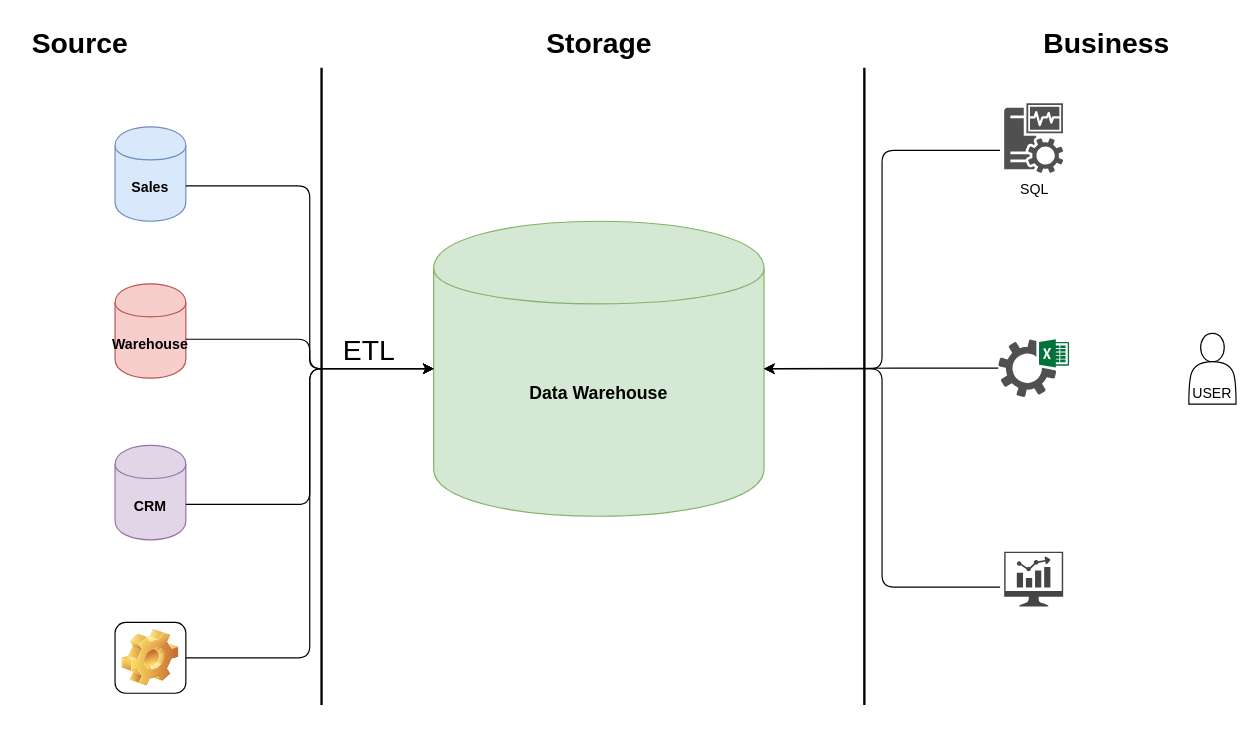
Some shapes in this 1257 by 742 pixel diagram are drawn without their labels. Each missing label, with the centre of its shape:
BI: (1033,578)
Excel: (1033,367)
Google Analytics: (150,657)
